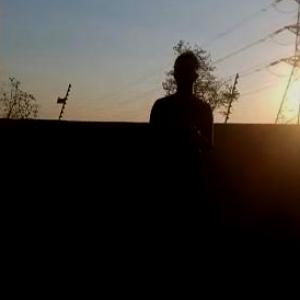follow: (118, 39, 217, 294)
